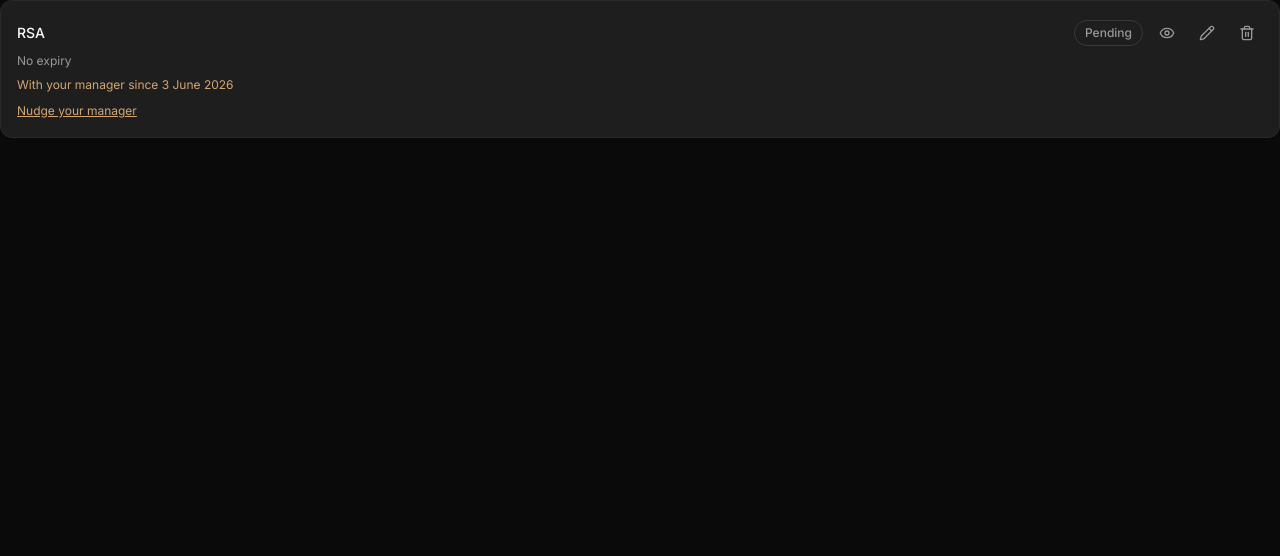
Test: MyDocumentsList › View toggles closed on a second click
Check: the text "RSA" is shown, box [17,23,45,43]
What coordinates should you click on to do the following:
click the button named "View RSA"
I would click on:
 (1167, 33)
Its box is [1151,17,1183,49].
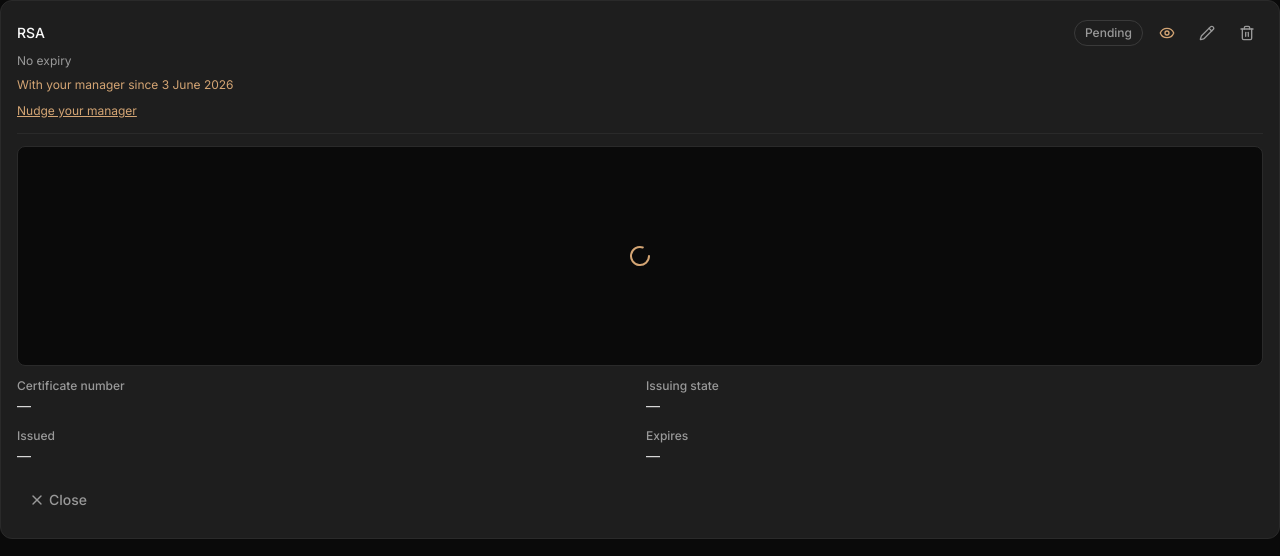
Check: the button "Close" is shown, box [17,478,99,522]
What coordinates should you click on to do the following:
click the button named "View RSA"
I would click on:
 (1167, 33)
Its box is [1151,17,1183,49].
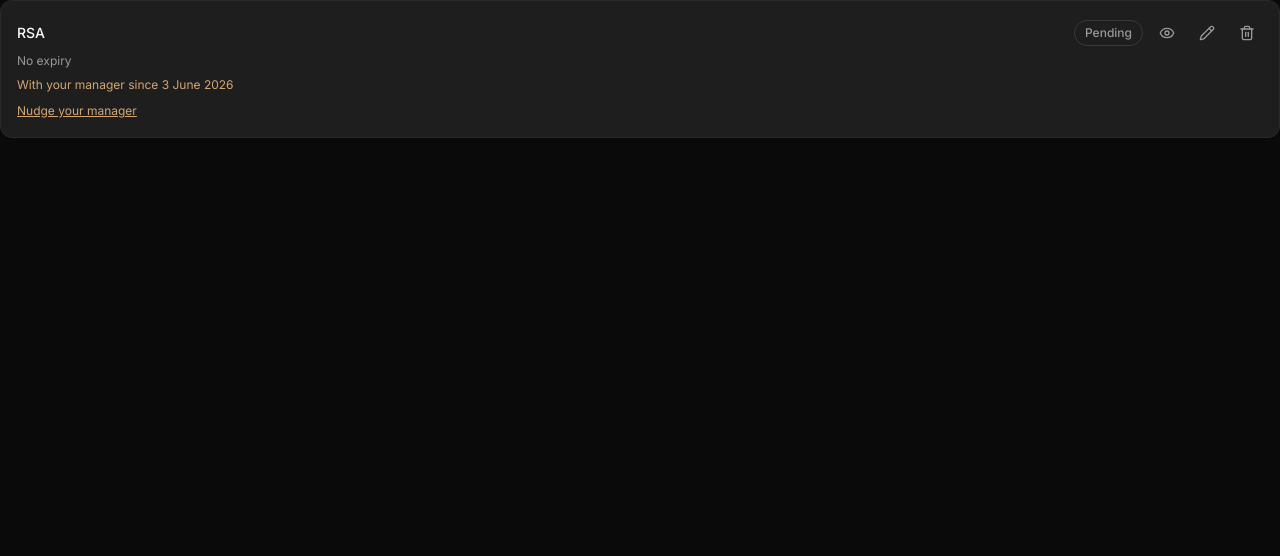
Check: the button "Close" is gone
